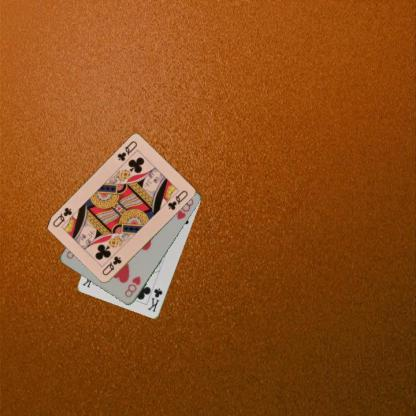8h: (122, 274, 143, 299)
Kc: (145, 286, 164, 313)
Qc: (115, 139, 138, 162), (99, 254, 123, 276)
